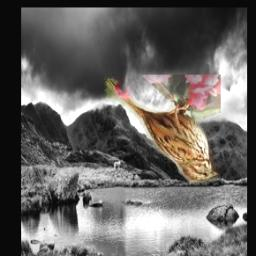Sparrow: (104, 76, 221, 186)
